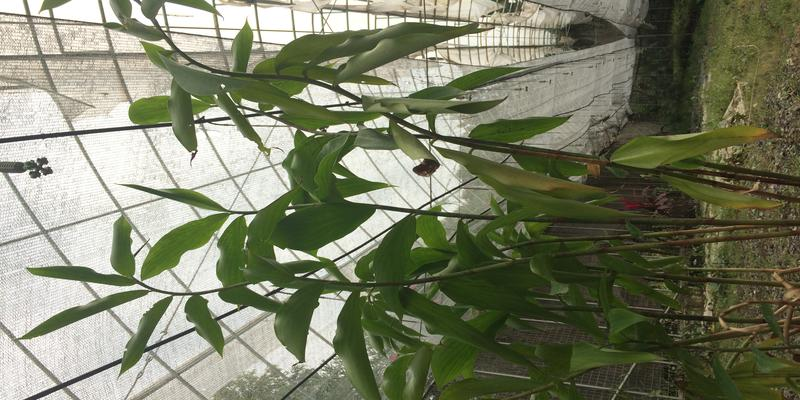Insulin: (153, 61, 755, 396)
